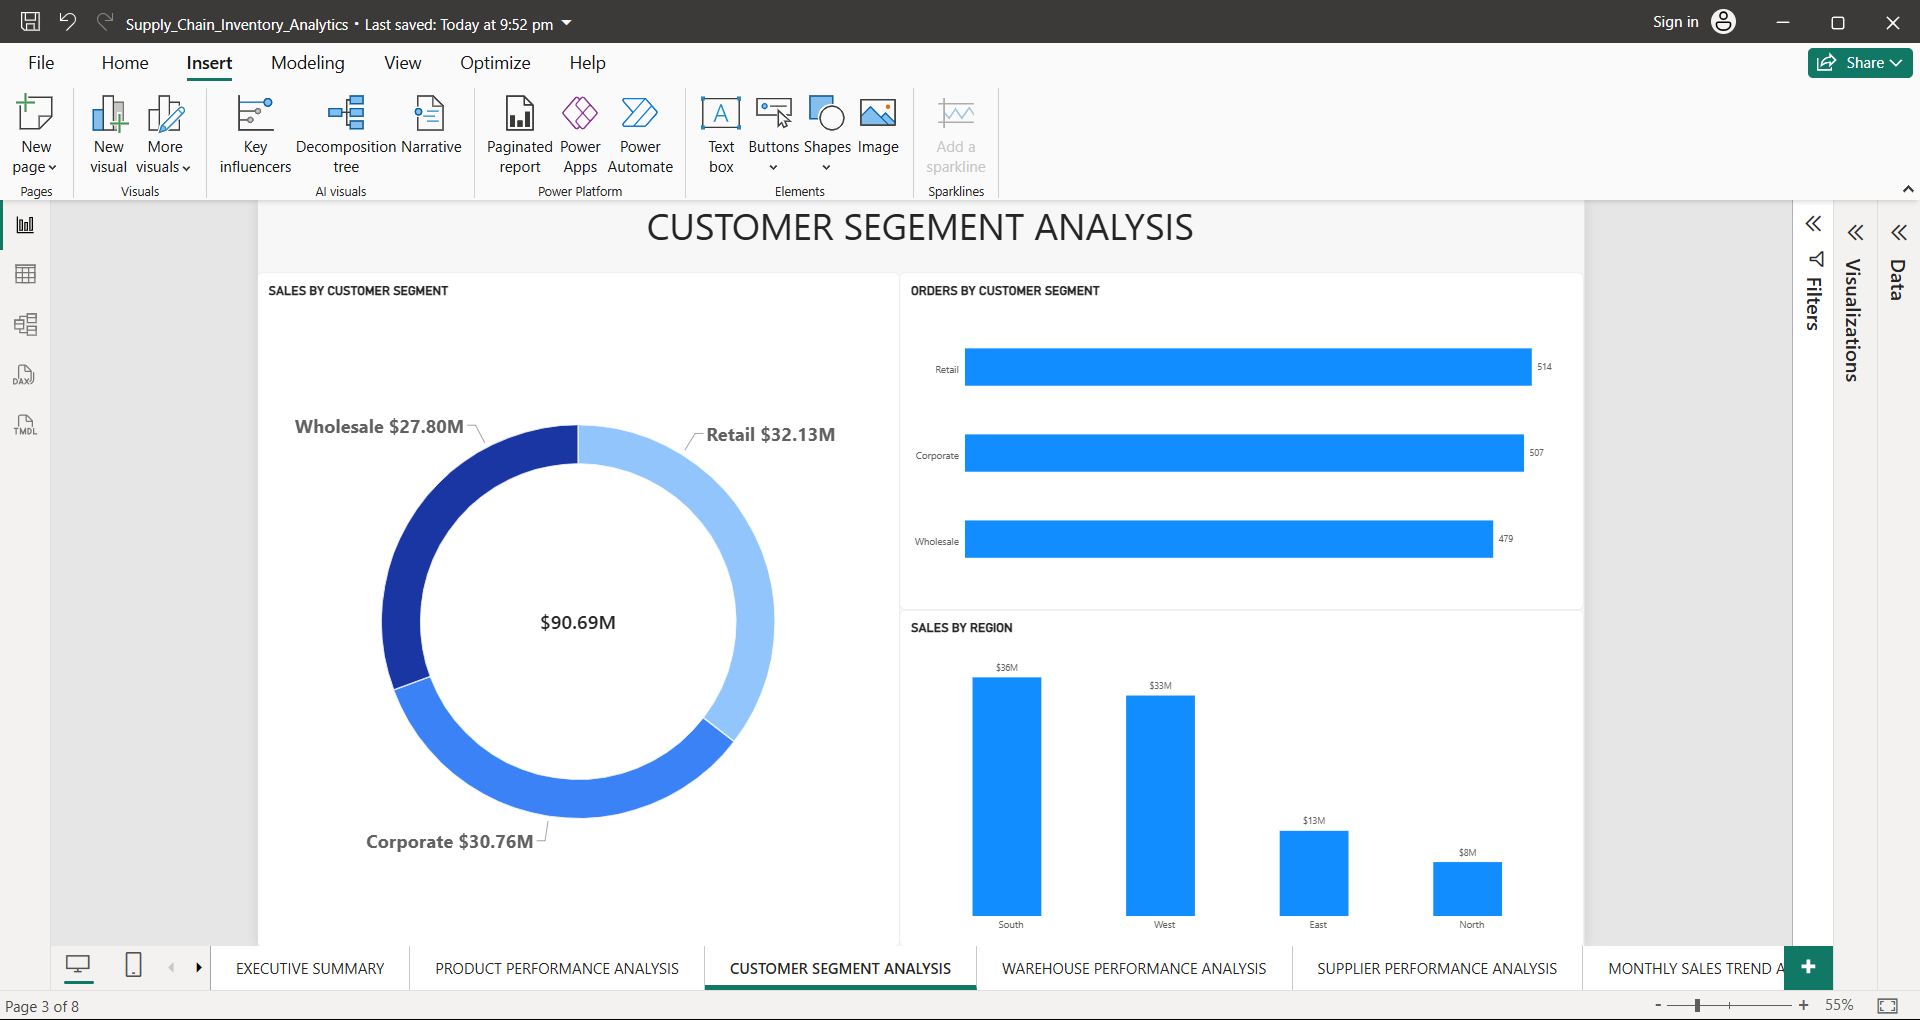

Layout of this report page (visuals, bound fields, positions):
{"tool":"powerbi","page":{"name":"CUSTOMER SEGMENT ANALYSIS","canvas":[1920,1080],"ordinal":2},"visuals":[{"type":"textbox","box":[0,0,1920.4,105],"z":0},{"type":"donutChart","title":"SALES BY CUSTOMER SEGMENT","fields":{"Category":["Customer.Segment"],"Y":["Business Measures.Total Sales"]},"box":[0,105,930.4,975.6],"z":1000},{"type":"clusteredBarChart","title":"ORDERS BY CUSTOMER SEGMENT","fields":{"Category":["Customer.Segment"],"Y":["Business Measures.Total Orders"]},"box":[930.4,105,990.1,487.8],"z":2000},{"type":"clusteredColumnChart","title":"SALES BY REGION","fields":{"Category":["Customer.Region"],"Y":["Business Measures.Total Sales"]},"box":[930.4,592.8,990.1,487.8],"z":3000}]}

Visuals, with their boxes on the page's 1920x1080 design canvas (x1, y1, x2, y2). These are canvas units, not pixel positions in the 1920x1020 screenshot, which may show the page scaled, cropped or inside an application window:
textbox: select_region(0, 0, 1920, 105)
"SALES BY CUSTOMER SEGMENT" donutChart: select_region(0, 105, 930, 1081)
"ORDERS BY CUSTOMER SEGMENT" clusteredBarChart: select_region(930, 105, 1920, 593)
"SALES BY REGION" clusteredColumnChart: select_region(930, 593, 1920, 1081)
